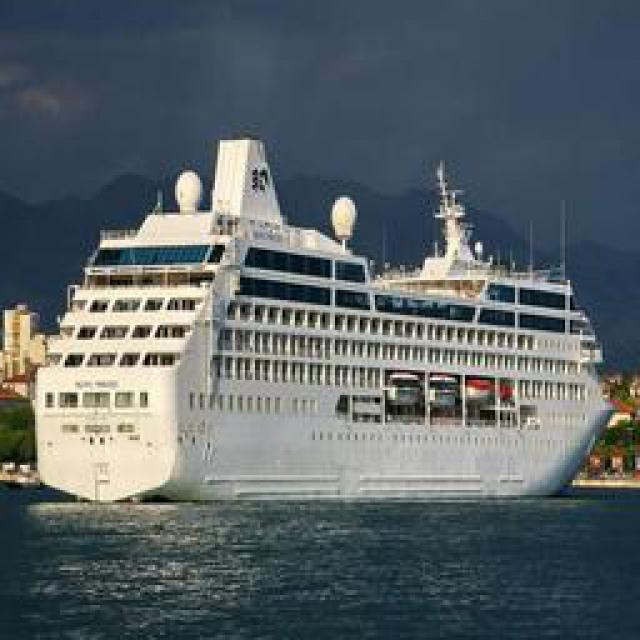Ship: (42, 141, 615, 504)
